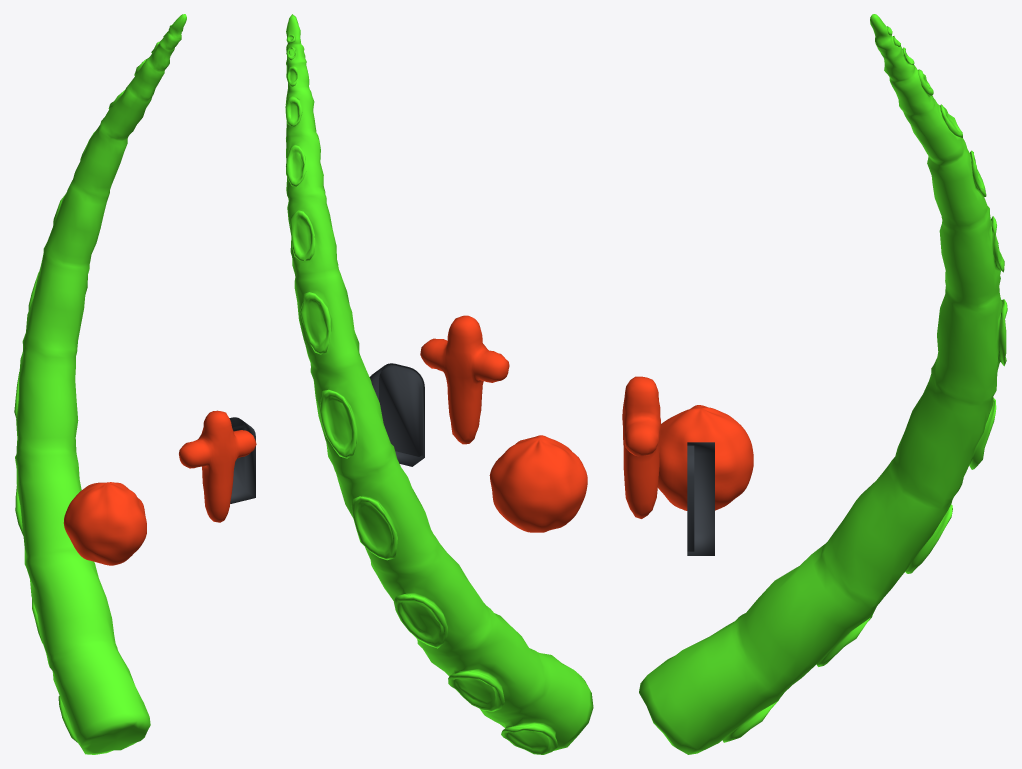
File: chapadlo.fbx
The picture shows the model from 3 angles, left to right: view 1: azimuth 30°, elevation 25°; view 2: azimuth 150°, elevation 25°; view 3: azimuth 270°, elevation 25°; orthographic projection. The views are drawn at different scales.
Parts seen in each view (by area): view 1: Cylinder.002, Sphere, Cube, Cube.001; view 2: Cylinder.002, Sphere, Cube, Cube.001; view 3: Cylinder.002, Sphere, Cube, Cube.001.
Part boxes in pixels (box(x1,y1,x2,y2)): Cylinder.002: box(14, 14, 186, 754); Sphere: box(63, 482, 146, 565); Cube: box(179, 410, 256, 522); Cube.001: box(229, 417, 255, 503); Cylinder.002: box(285, 14, 593, 754); Sphere: box(489, 435, 587, 532); Cube: box(420, 315, 509, 444); Cube.001: box(369, 363, 424, 466); Cylinder.002: box(639, 14, 1007, 754); Sphere: box(658, 405, 753, 510); Cube: box(622, 376, 660, 518); Cube.001: box(687, 442, 714, 555).
Bounding box in the file's own units: 512 × 1728 × 730.
